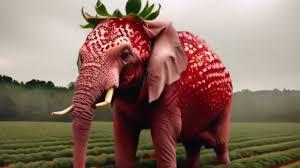strawberry-elephant: (76, 8, 234, 166)
